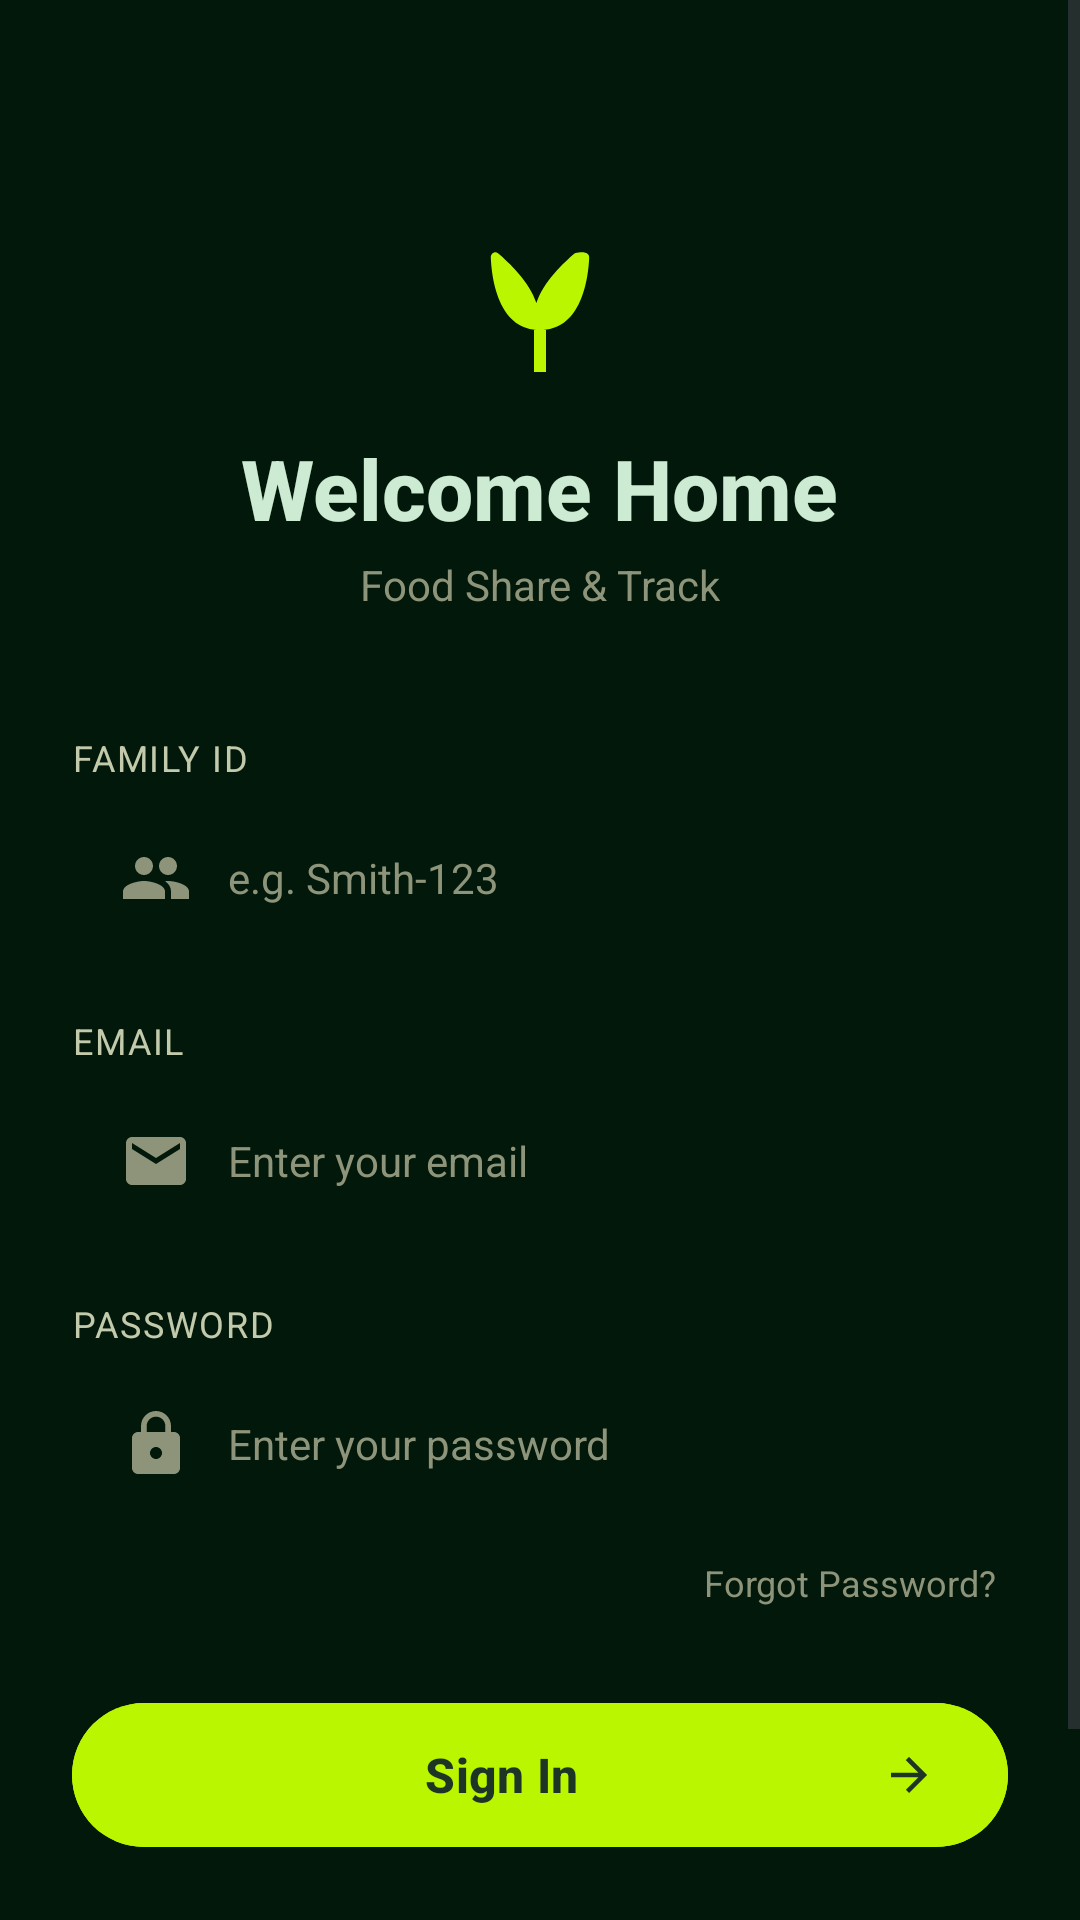

Named icons in this screenshot (1080px x 1920px) and their centers, (x=x, y=y):
lock: (x=156, y=1442)
